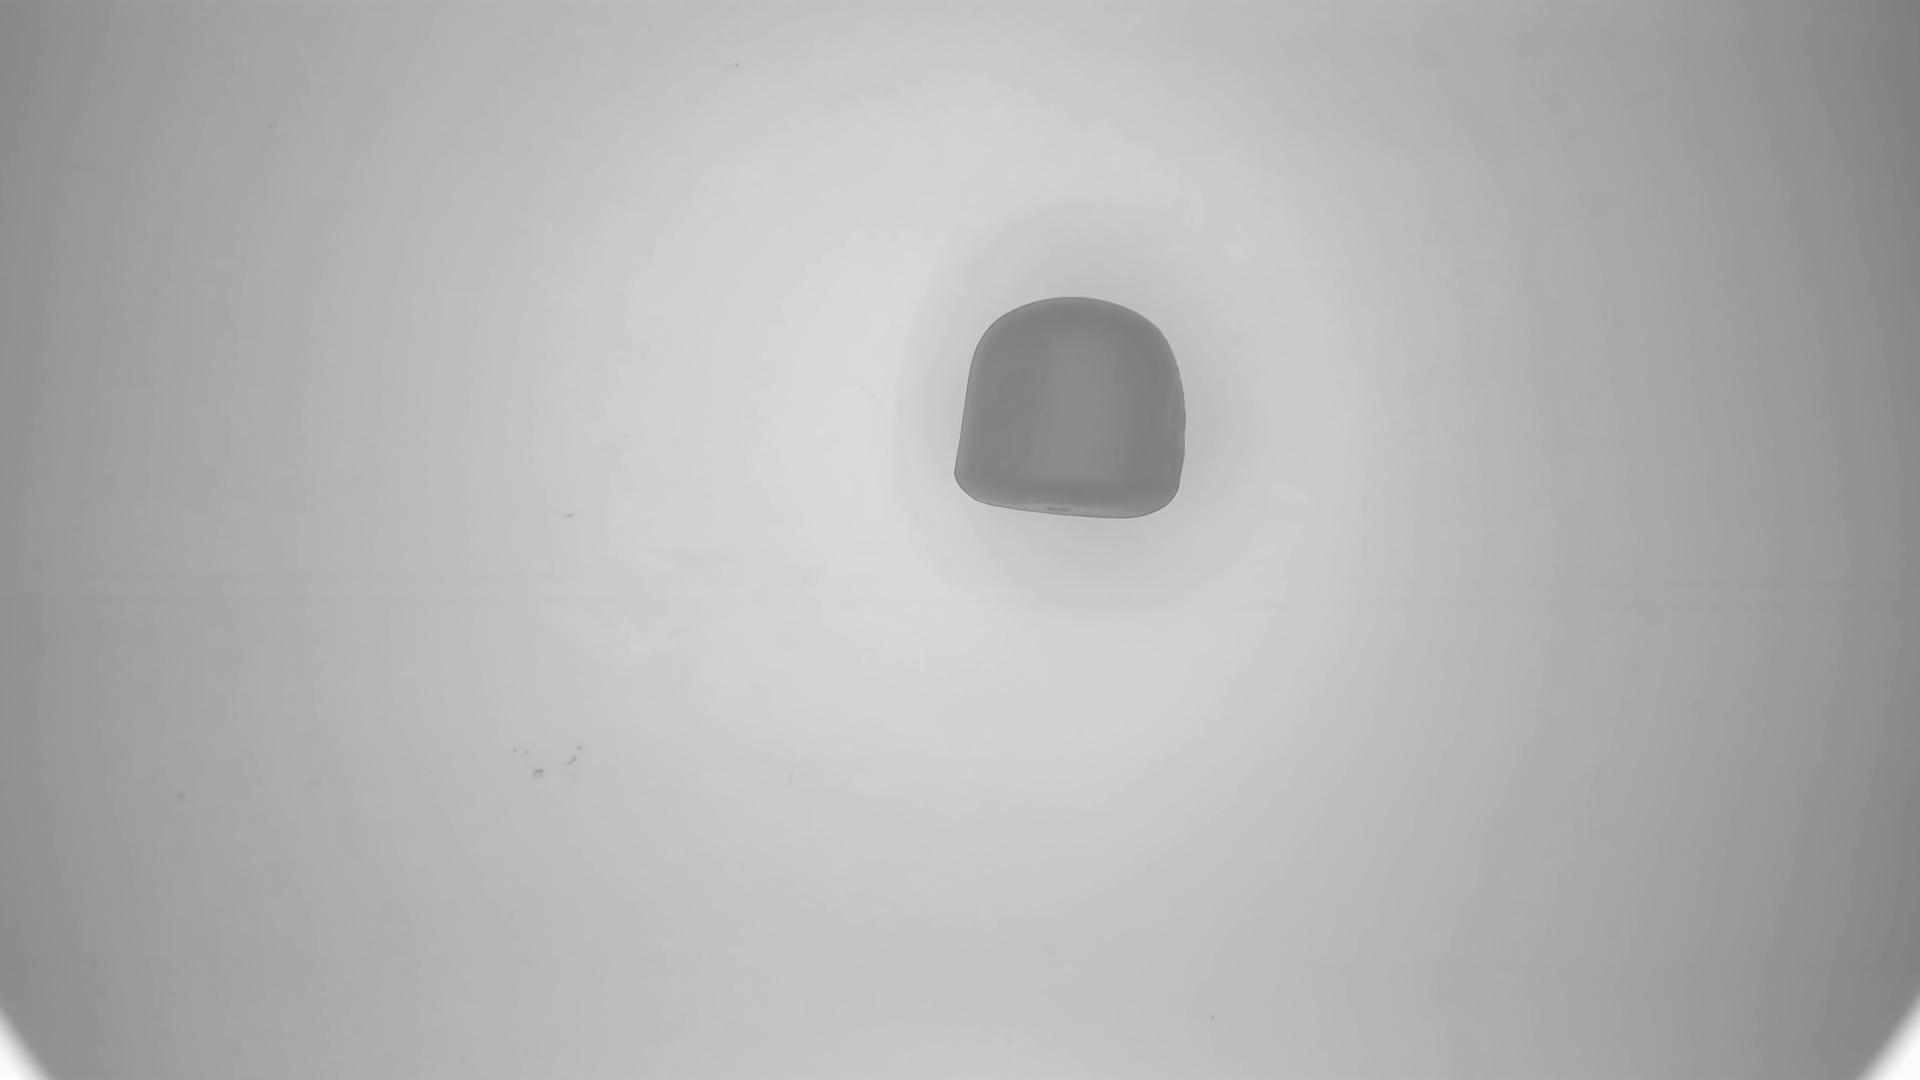normal: (953, 294, 1191, 524)
